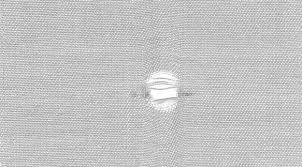Hole: (128, 53, 203, 126)
